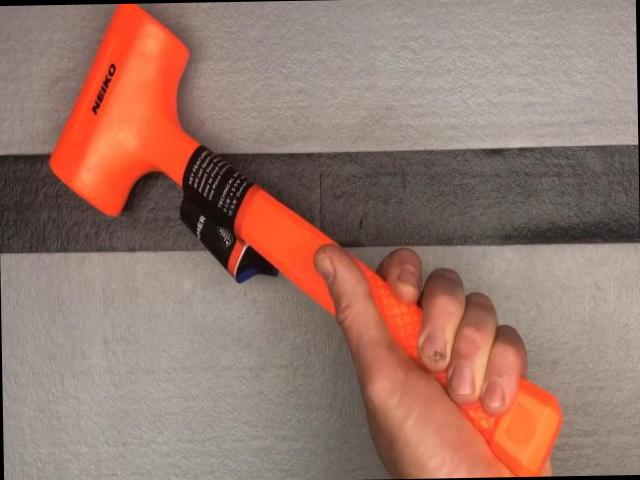hammer: (43, 0, 567, 480)
